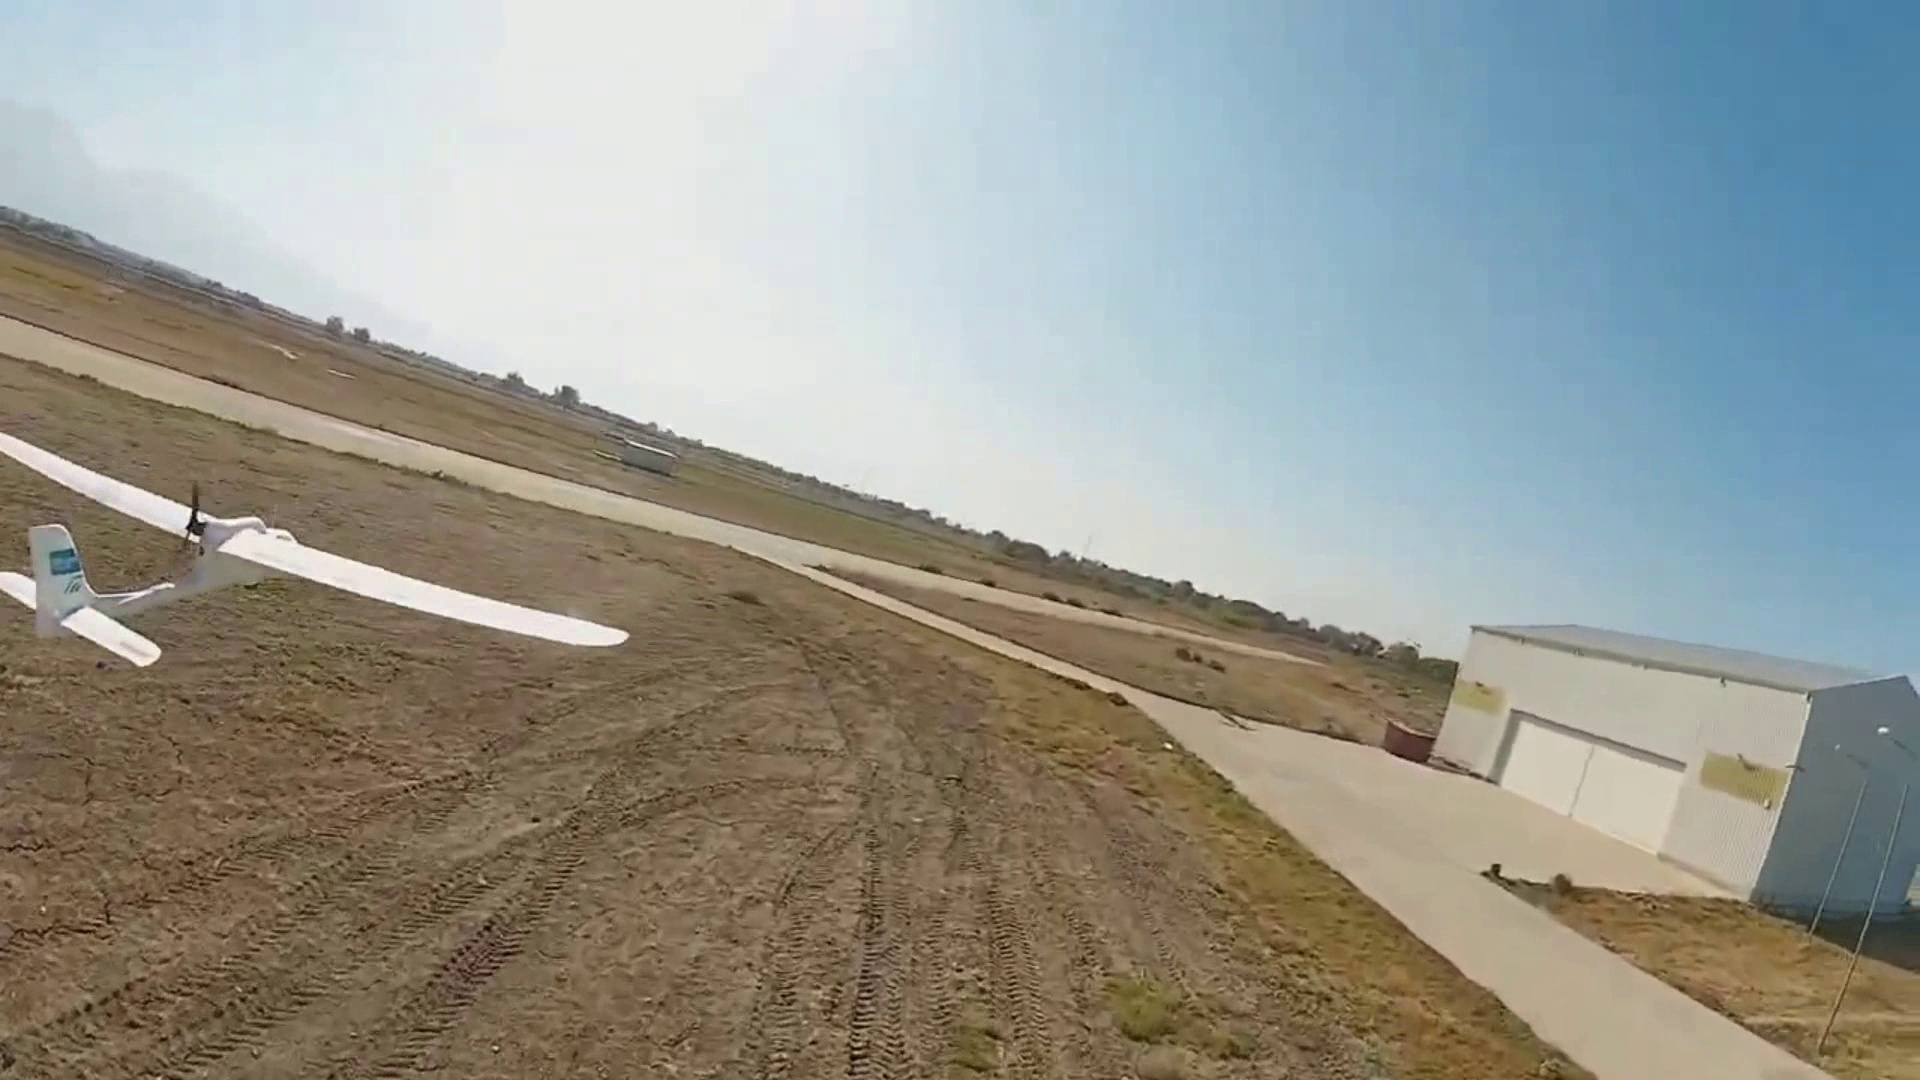airplane: (1, 429, 632, 673)
